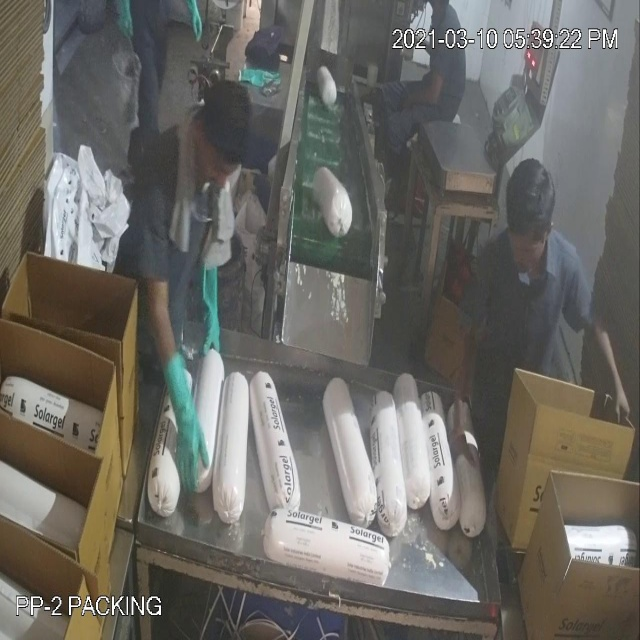Sin_guantes: (157, 334, 213, 501), (579, 298, 635, 431), (450, 301, 486, 492)
